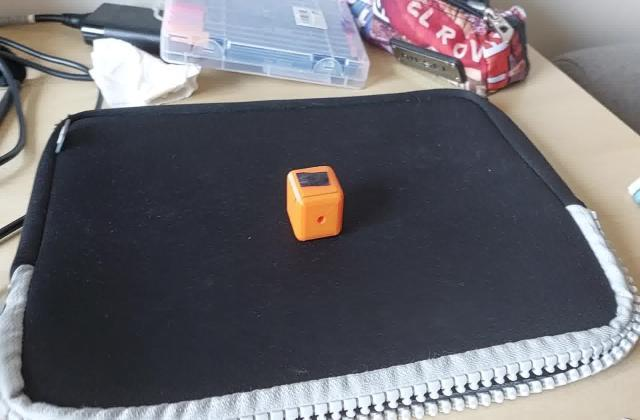black: (293, 169, 333, 191)
cube: (284, 165, 346, 243)
